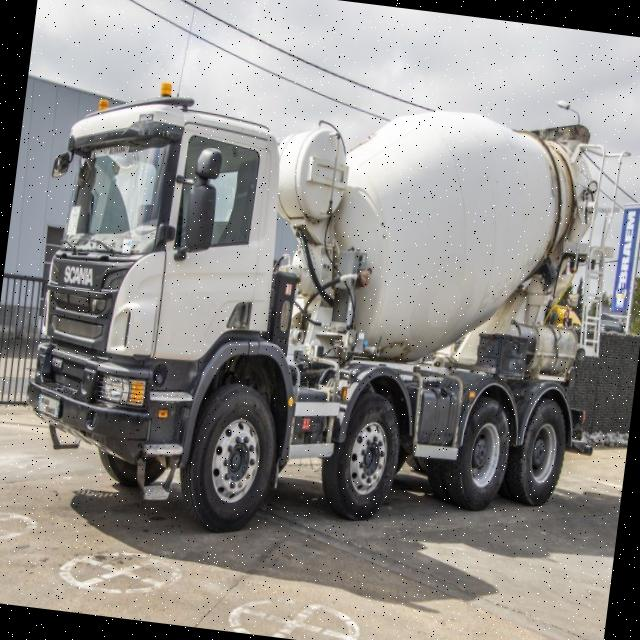Mixer Truck: (12, 63, 632, 576)
